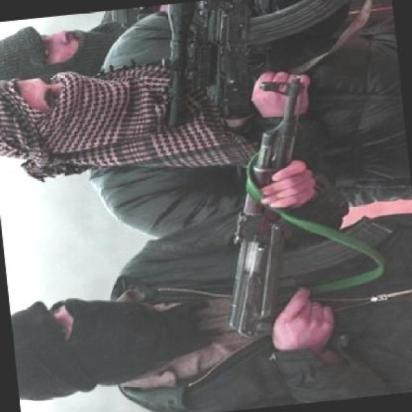Gun: (235, 77, 398, 370)
